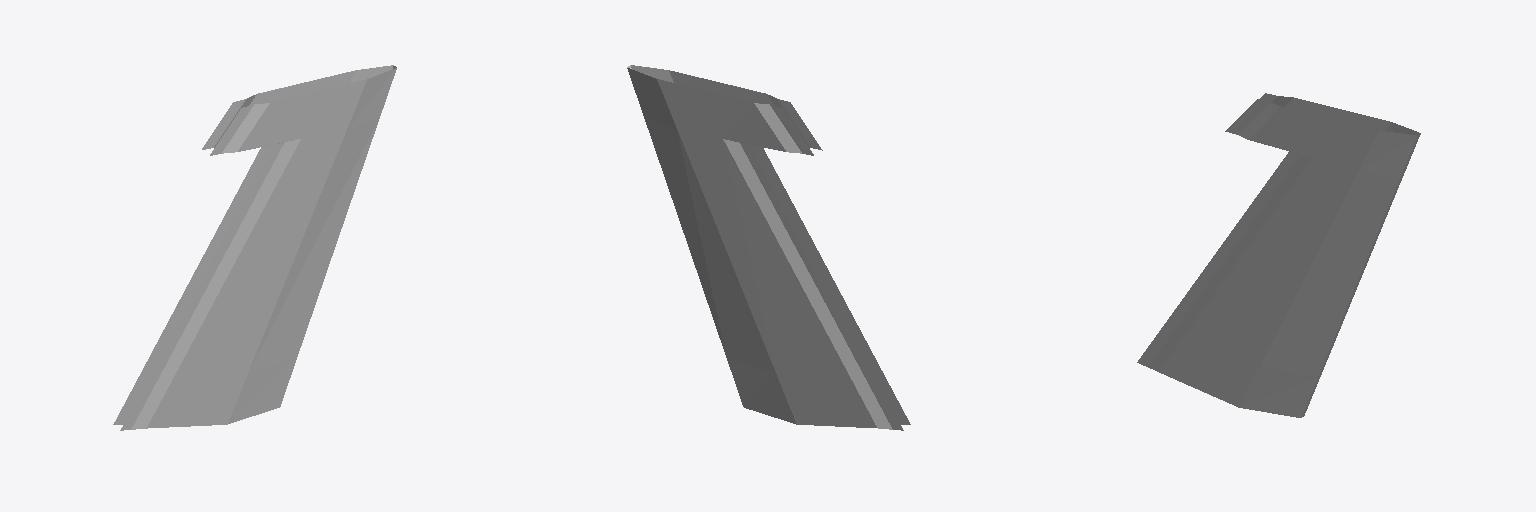
File: rudder.obj
The picture shows the model from 3 angles: view 1: azimuth 30°, elevation 25°; view 2: azimuth 150°, elevation 25°; view 3: azimuth 330°, elevation 25°; orthographic projection.
Visible parts, largest first — view 1: rudder; view 2: rudder; view 3: rudder.
Part boxes in pixels (bbox=[...]): rudder: bbox=[113, 65, 396, 430]; rudder: bbox=[627, 65, 910, 430]; rudder: bbox=[1137, 93, 1420, 417].
Bounding box in the file's own units: 5.92 × 6.32 × 0.4668.